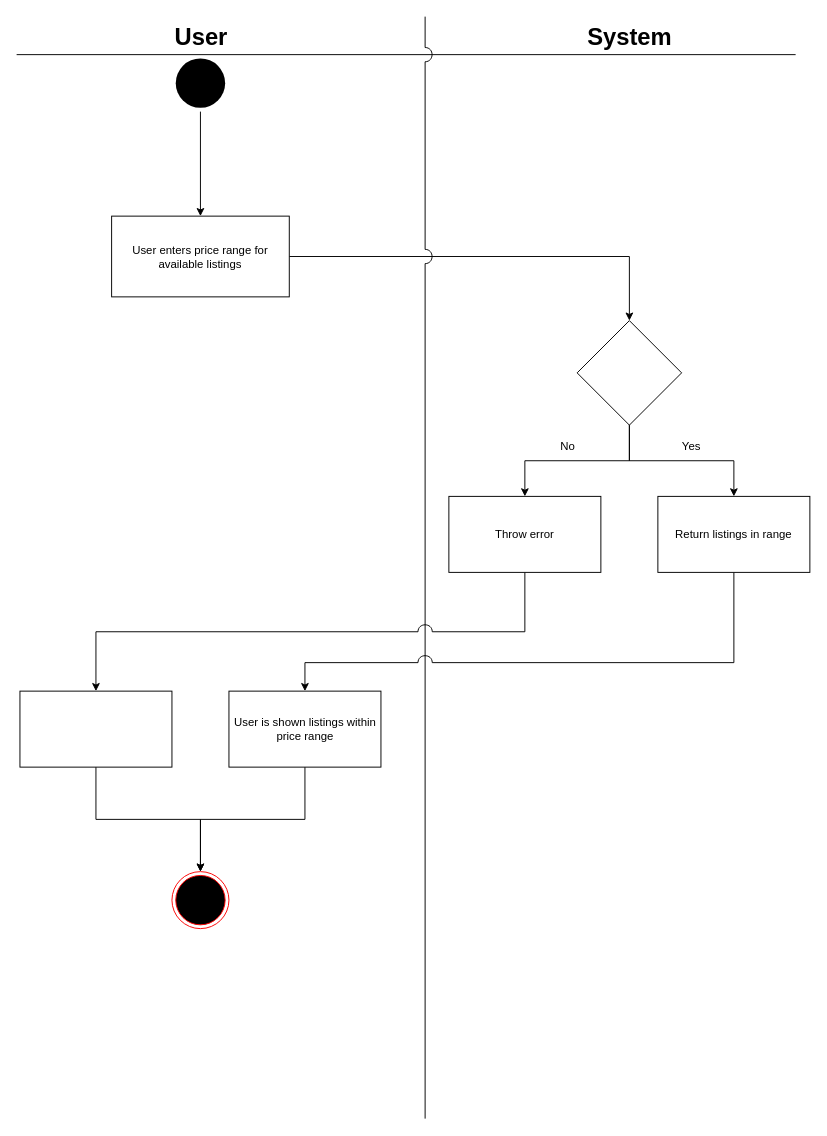
Some shapes in this 827 by 1136 pixel diagram are drawn without their labels. Each missing label, with the box of its shape:
Listings are available in price range?: (576, 320, 682, 425)
User is shown error: (19, 690, 172, 767)
